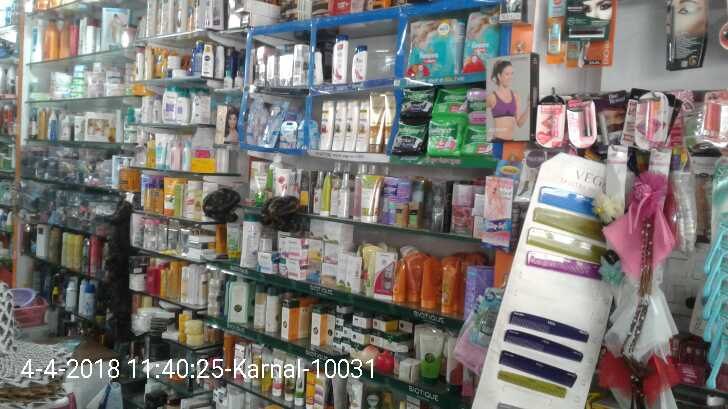venus: (701, 221, 728, 391), (266, 99, 285, 149), (247, 96, 264, 146), (299, 121, 319, 149), (287, 122, 296, 149)
